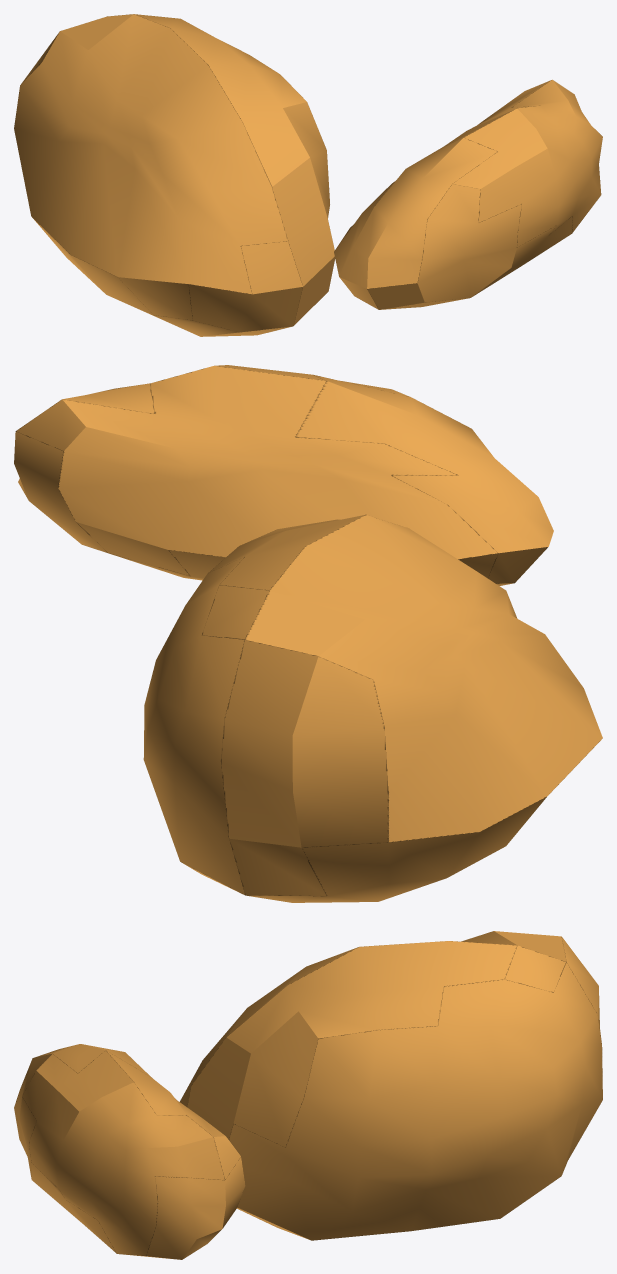
The picture shows the model from 3 angles, top to bottom: view 1: azimuth 30°, elevation 25°; view 2: azimuth 150°, elevation 25°; view 3: azimuth 270°, elevation 25°; orthographic projection. The views are drawn at different scales.
Visible parts, largest first — view 1: Cube.017_Baked; view 2: Cube.017_Baked; view 3: Cube.017_Baked.
Boxes of the visible parts, <box> form: Cube.017_Baked: <box>14,14,602,336</box>; Cube.017_Baked: <box>14,365,602,902</box>; Cube.017_Baked: <box>14,931,602,1259</box>.
Size of the model in its own units: 35.77 by 19.23 by 36.42.
Materials: 1 (1 with a texture image).
